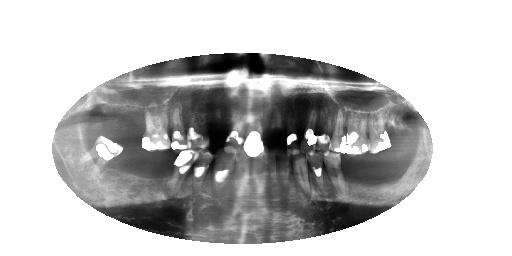i10decay: (216, 149, 233, 197)
i11decay: (195, 149, 214, 201)
i12healthy: (168, 149, 195, 199)
i13loss: (149, 150, 168, 199)
i14loss: (129, 150, 148, 199)
i15loss: (111, 147, 133, 189)
i16healthy: (79, 135, 124, 178)
i1loss: (375, 155, 398, 197)
i2loss: (345, 154, 374, 199)
i3decay: (323, 151, 347, 201)
i4decay: (308, 150, 327, 202)
i5healthy: (293, 152, 310, 200)
i6healthy: (279, 148, 292, 196)
i7healthy: (266, 148, 278, 196)
i8healthy: (250, 147, 266, 194)
i9healthy: (234, 148, 251, 195)
u10loss: (208, 103, 225, 150)
u11decay: (187, 100, 208, 149)
u12healthy: (168, 99, 188, 151)
u13healthy: (141, 104, 171, 150)
u14loss: (126, 103, 141, 149)
u15loss: (109, 102, 126, 135)
u16loss: (89, 98, 108, 135)
u1loss: (389, 107, 410, 148)
u2healthy: (367, 110, 391, 155)
u3healthy: (346, 109, 369, 155)
u4decay: (317, 103, 330, 149)
u4healthy: (330, 104, 345, 153)
u5healthy: (303, 104, 316, 149)
u6decay: (286, 106, 301, 152)
u7loss: (266, 103, 283, 152)
u8healthy: (242, 97, 265, 158)
u9decay: (224, 102, 242, 154)
